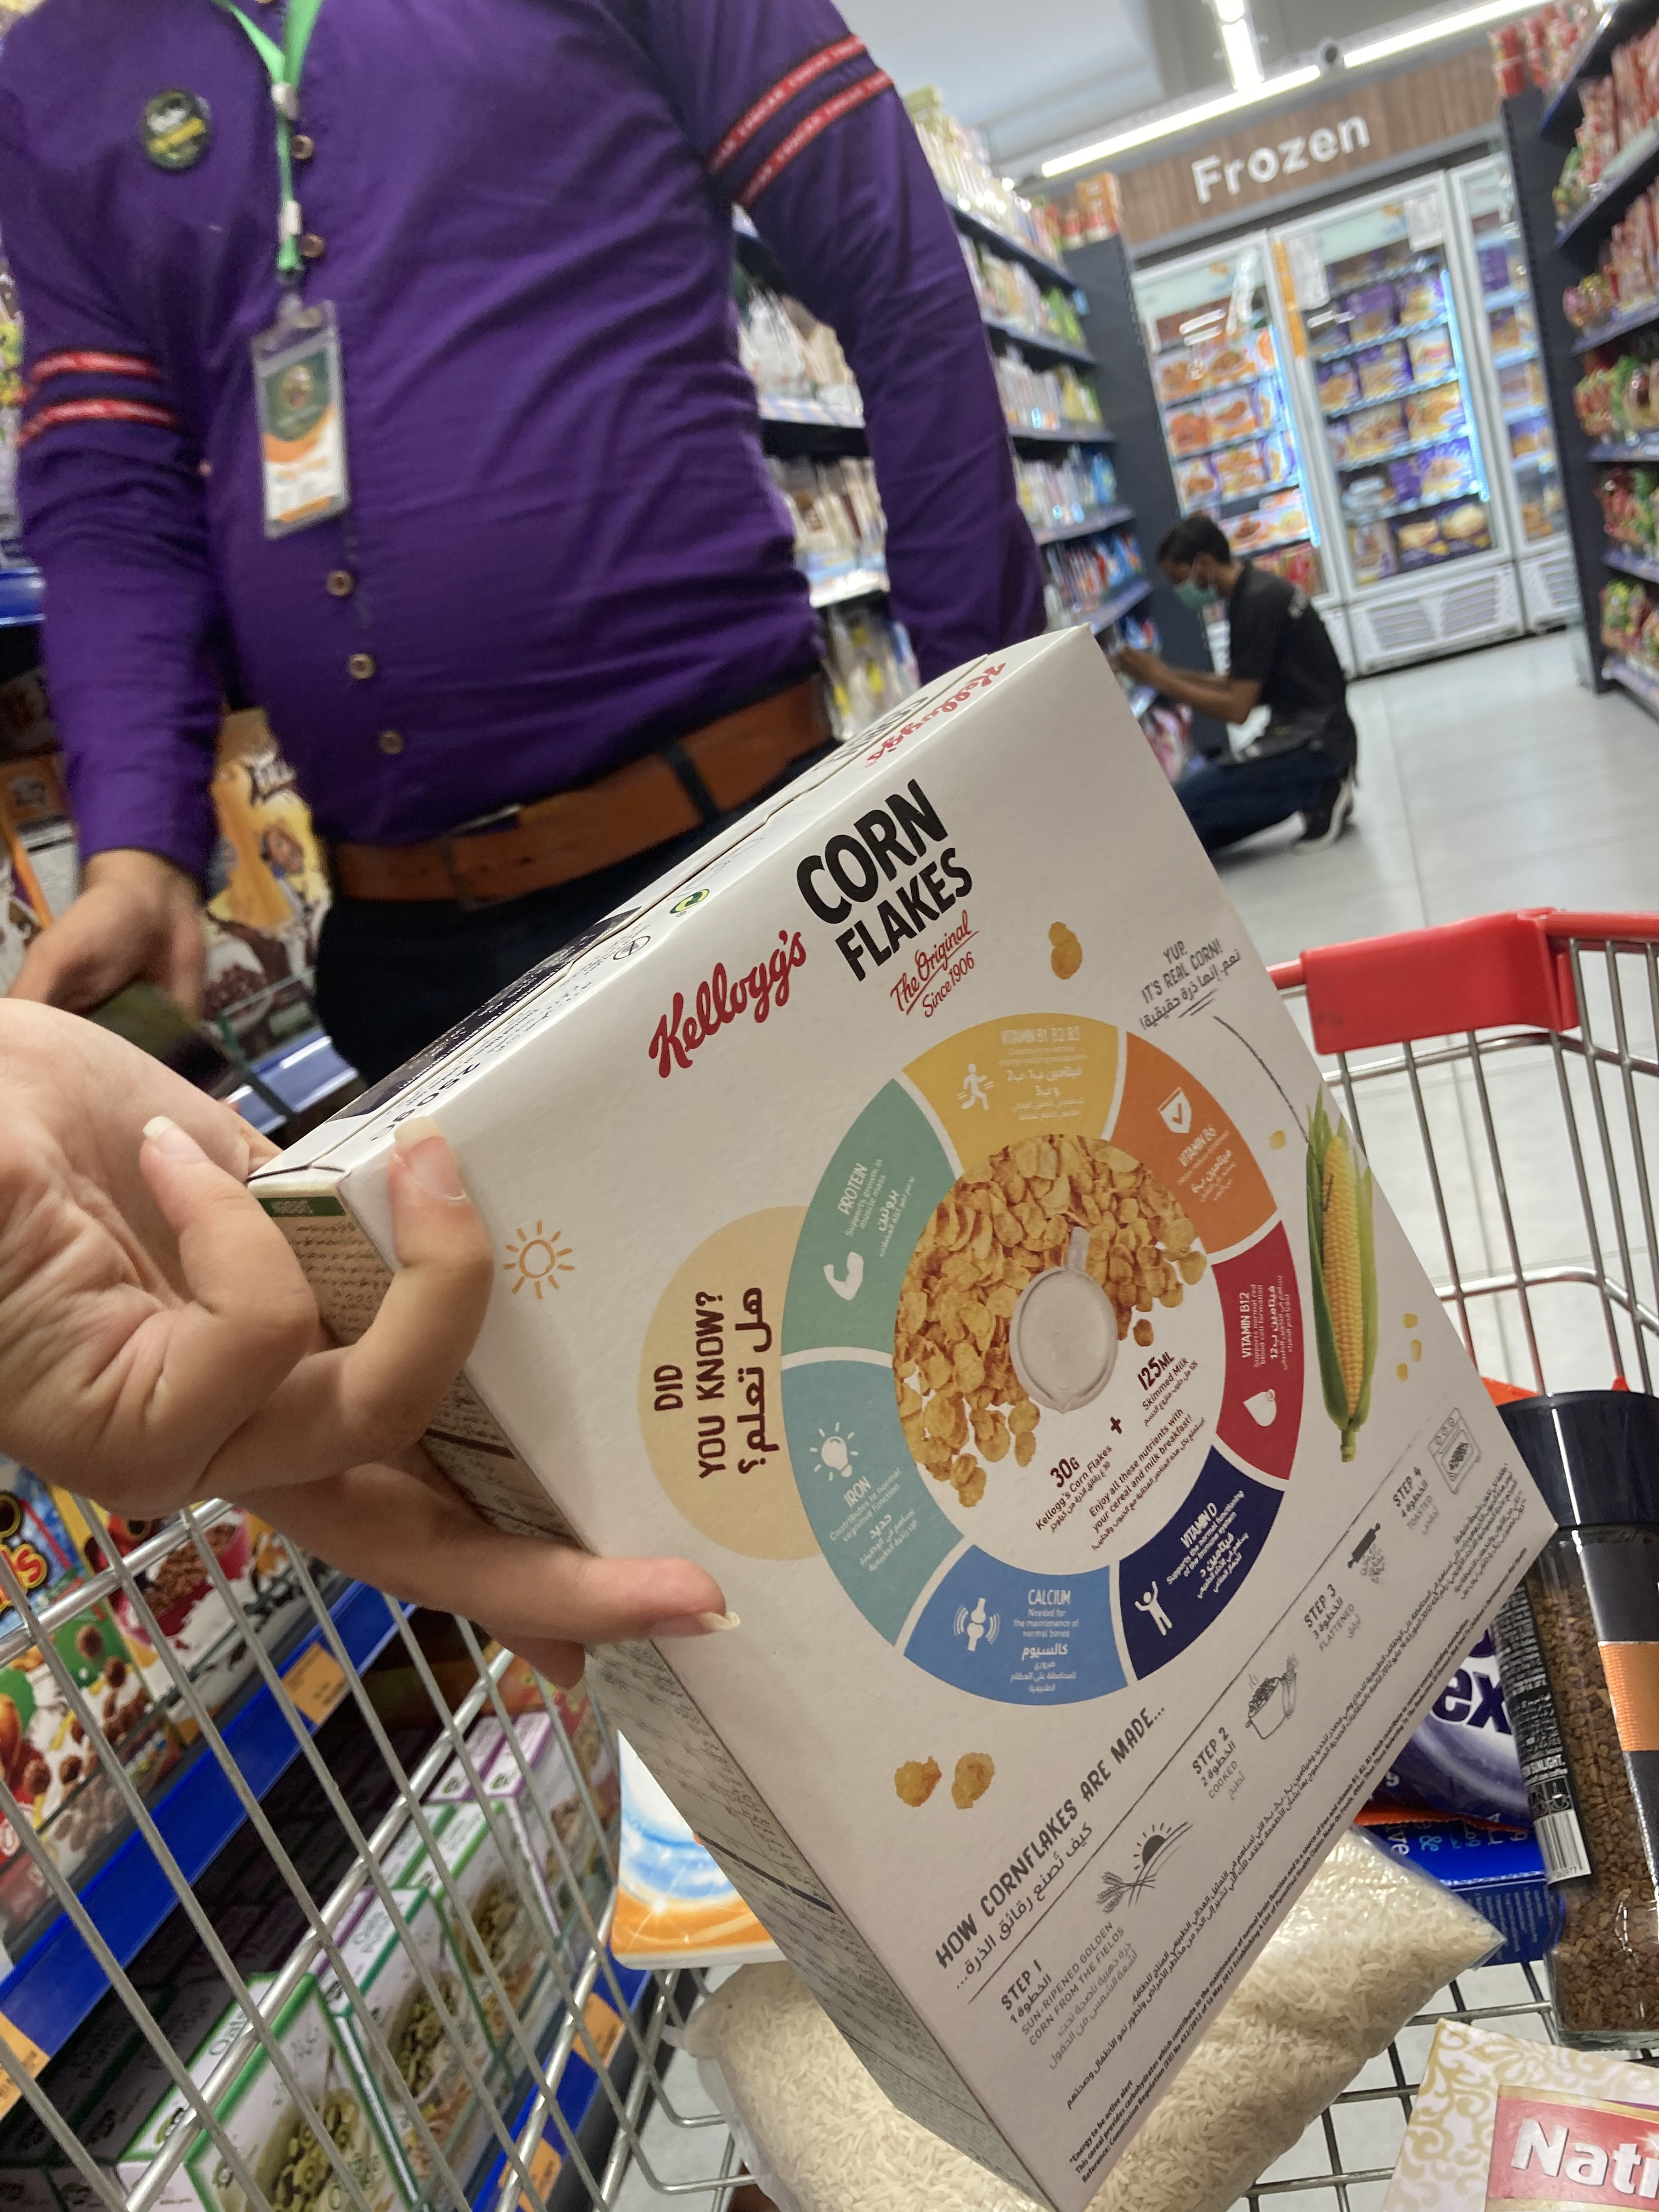Kellogg's Corn Flakes: (244, 629, 1582, 2212)
